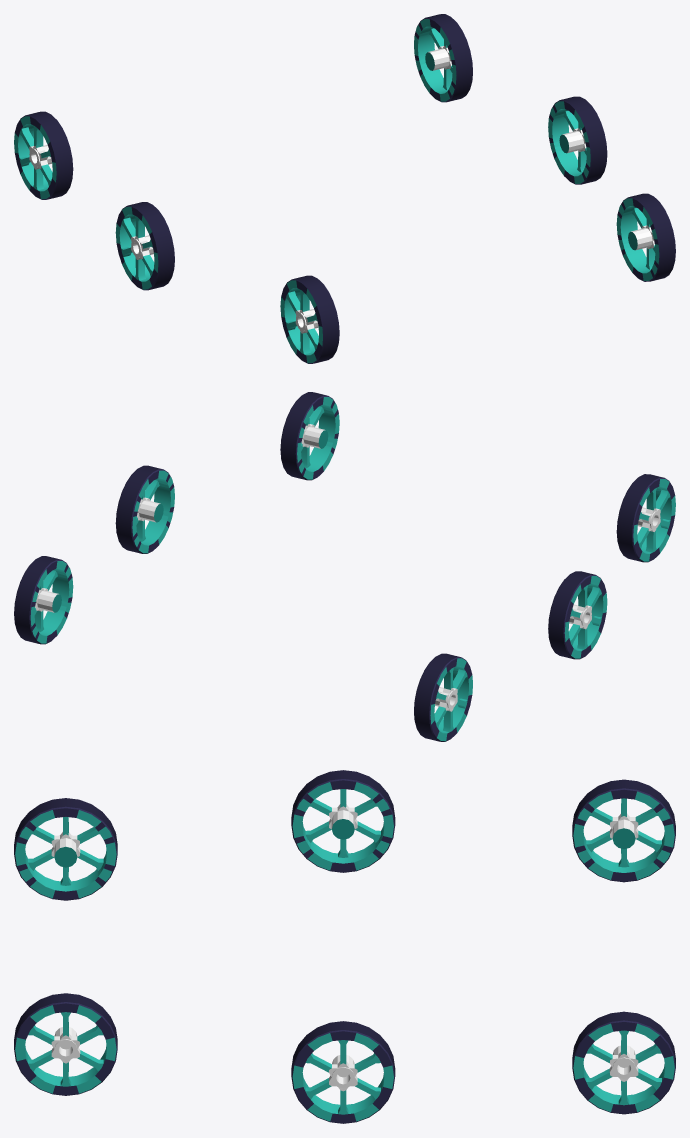
The model's file is Wheels Lightweight.fbx.
3 views of the same model, one above another, from view 1: azimuth 30°, elevation 25°; view 2: azimuth 150°, elevation 25°; view 3: azimuth 270°, elevation 25° (orthographic). The views are drawn at different scales.
Visible parts, largest first — view 1: RR.002, LF.002, LM.002, RF.002, RM.002, LR.002; view 2: LR.002, RF.002, LF.002, RM.002, LM.002, RR.002; view 3: LM.002, RM.002, LF.002, RF.002, LR.002, RR.002.
Boxes of the visible parts, bbox=[...] form: RR.002: bbox=[14, 111, 73, 199]; LF.002: bbox=[616, 193, 675, 281]; LM.002: bbox=[548, 96, 607, 184]; RF.002: bbox=[280, 275, 339, 363]; RM.002: bbox=[115, 202, 174, 290]; LR.002: bbox=[414, 14, 472, 102]; LR.002: bbox=[14, 556, 73, 644]; RF.002: bbox=[616, 474, 675, 562]; LF.002: bbox=[280, 392, 339, 480]; RM.002: bbox=[548, 571, 607, 659]; LM.002: bbox=[115, 465, 174, 553]; RR.002: bbox=[414, 653, 472, 741]; LM.002: bbox=[291, 1021, 395, 1123]; RM.002: bbox=[291, 770, 395, 872]; LF.002: bbox=[14, 993, 117, 1095]; RF.002: bbox=[14, 798, 117, 900]; LR.002: bbox=[572, 1011, 675, 1114]; RR.002: bbox=[572, 779, 675, 882].
Bounding box in the file's own units: 21.75 × 3.64 × 23.24.
